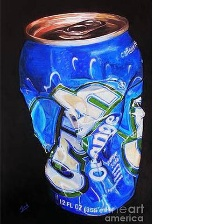can: (16, 9, 147, 219)
